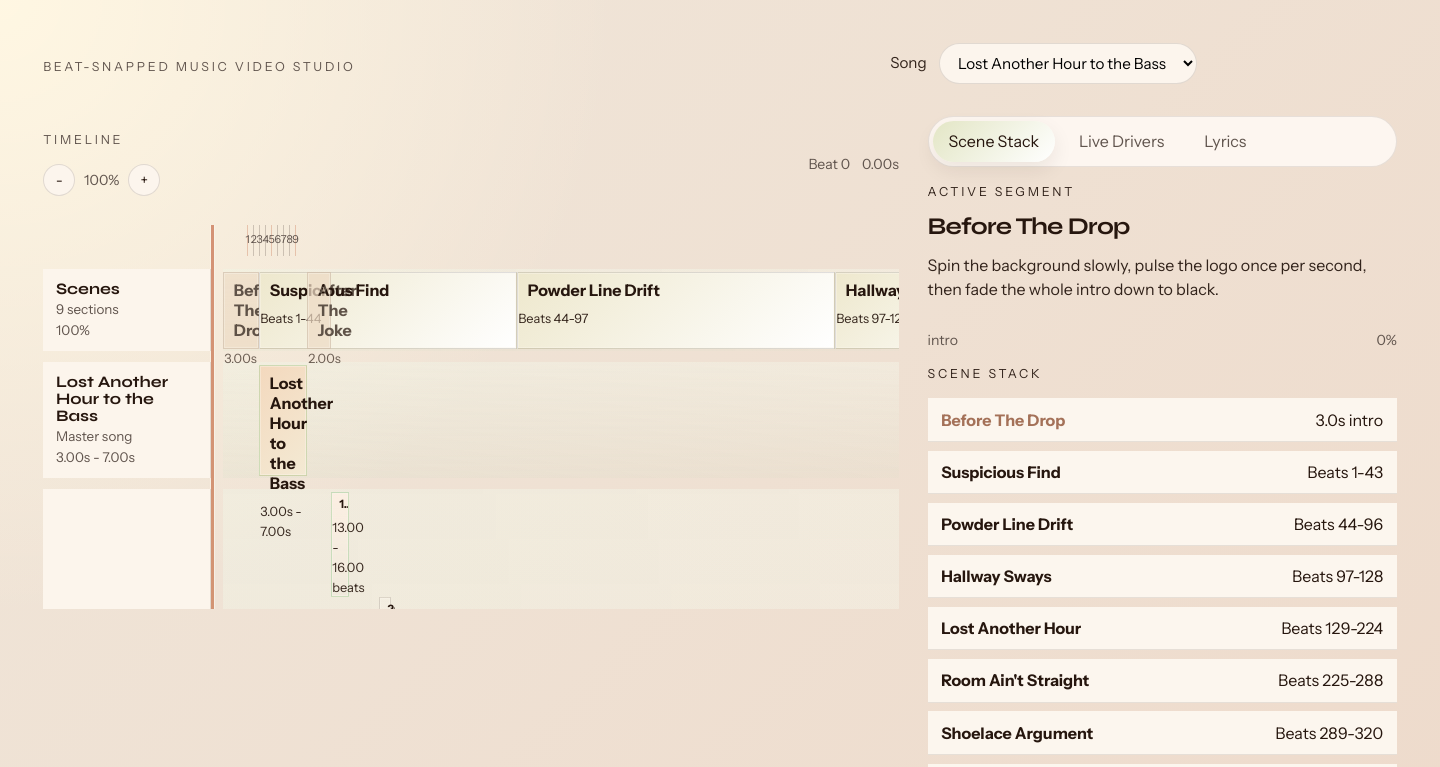
Test case: App › opens the Lyrics tab to edit lyric timings
This screenshot has width=1440, height=767.
Click the tab "Lyrics": (1225, 141) [1188,121,1262,162]
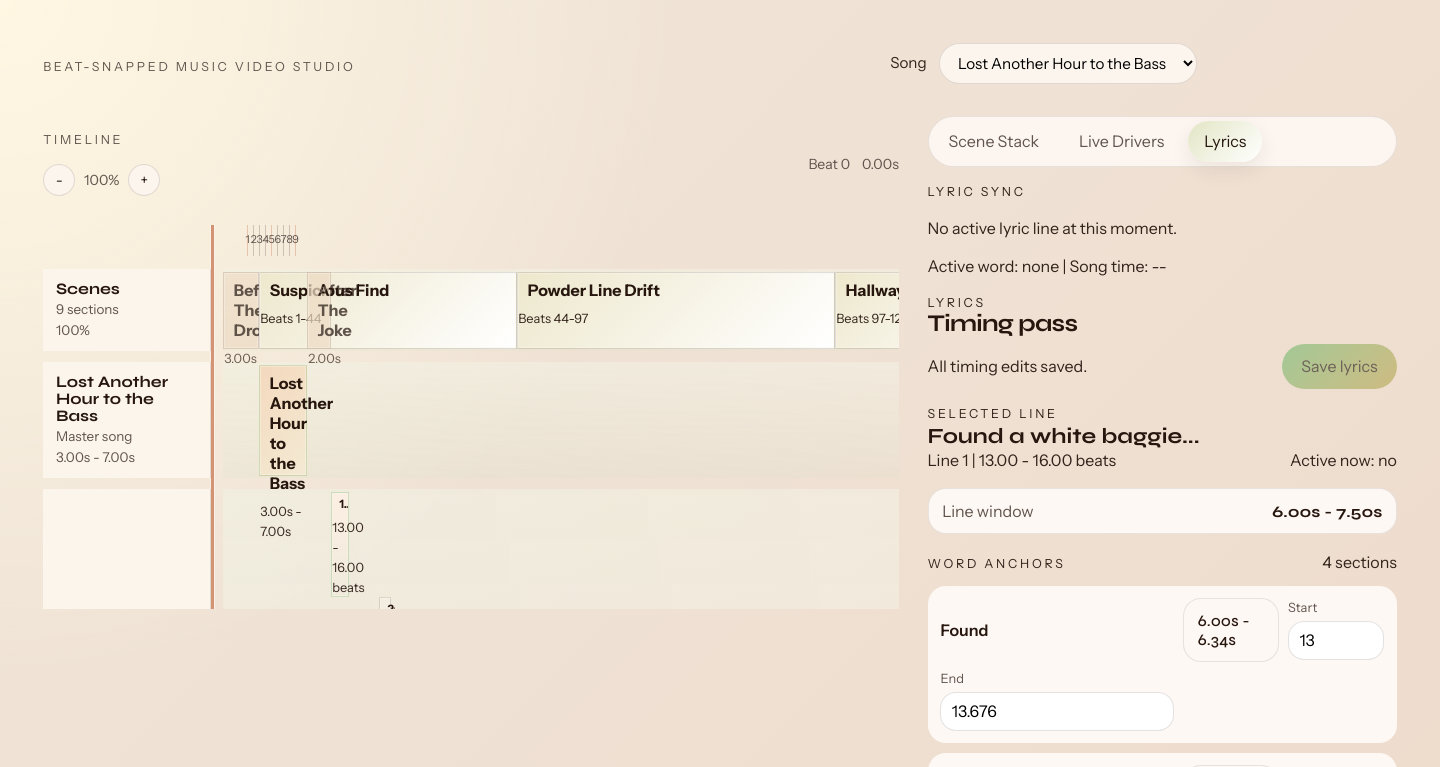
Check: the text "Lyric Sync" is shown, box [928,184,1026,199]
Check: the text "Word Anchors" is shown, box [928,555,1066,574]
